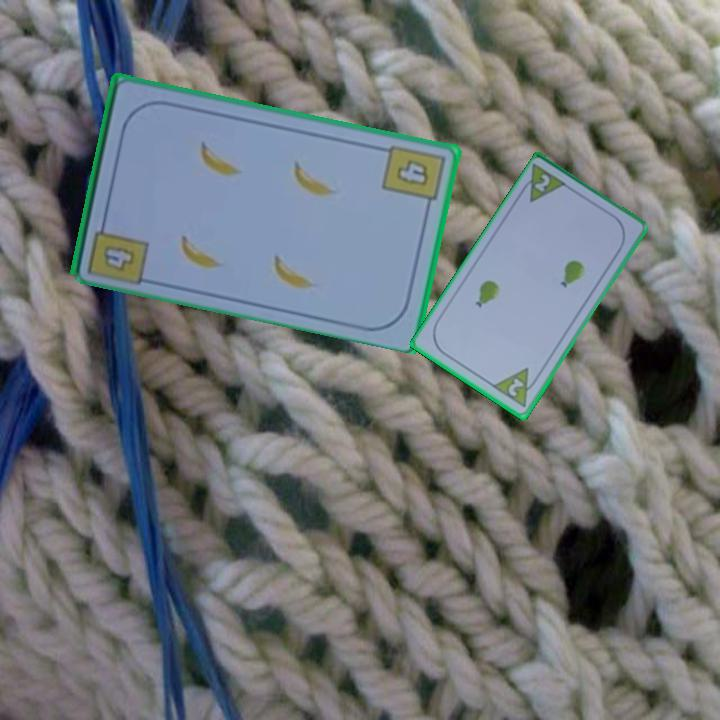2p: (489, 364, 543, 411), (530, 171, 553, 195)
4b: (378, 141, 448, 213), (100, 240, 139, 274)
